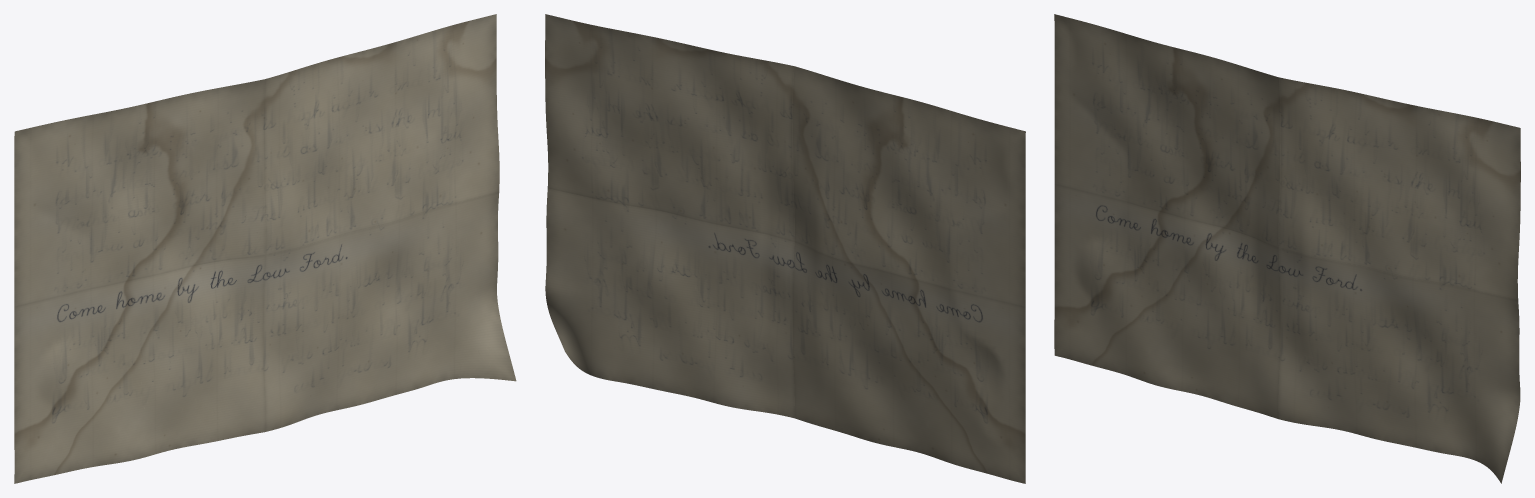
The model's file is letter_open.glb.
The picture shows the model from 3 angles, left to right: view 1: azimuth 30°, elevation 25°; view 2: azimuth 150°, elevation 25°; view 3: azimuth 330°, elevation 25°; orthographic projection. The views are drawn at different scales.
Parts seen in each view (by area): view 1: letter_open; view 2: letter_open; view 3: letter_open.
Part boxes in pixels (bbox=[...]): letter_open: bbox=[14, 14, 516, 483]; letter_open: bbox=[545, 14, 1025, 483]; letter_open: bbox=[1054, 14, 1520, 483].
Size of the model in its own units: 0.2 by 0.14 by 0.0147.
1 material, 1 textured.
